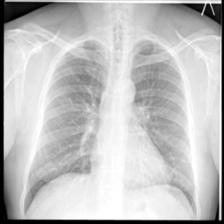tuberculosis: (21, 31, 201, 224)
